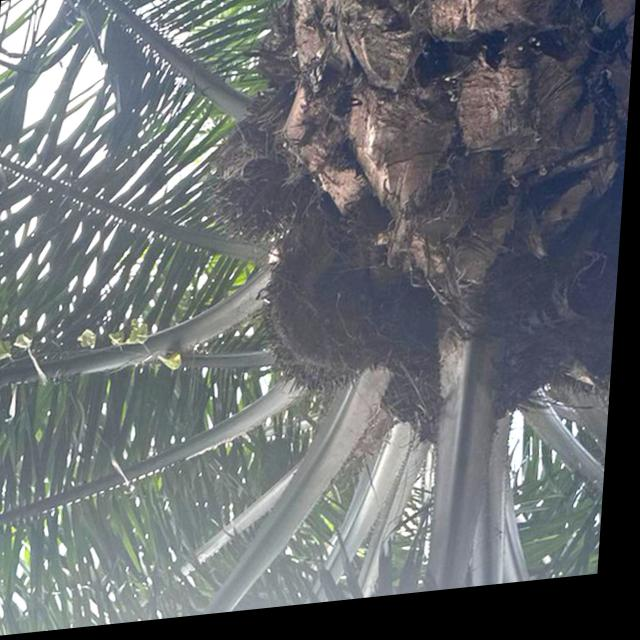unripe: (250, 241, 382, 415)
